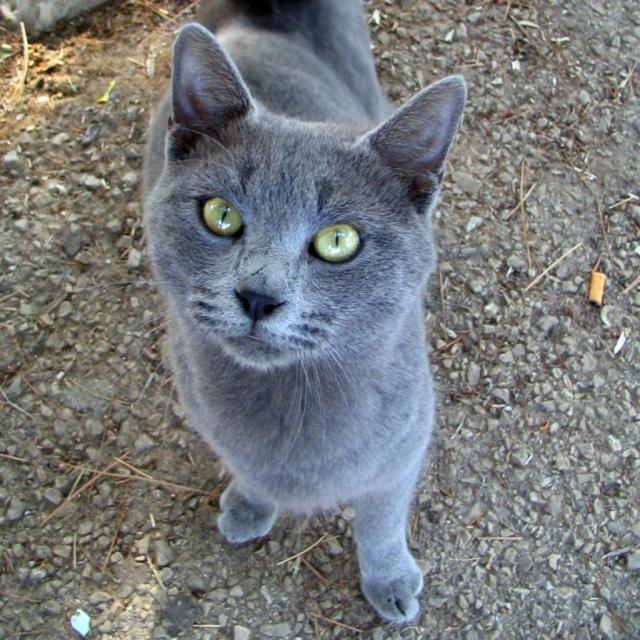Cat: (142, 0, 466, 621)
